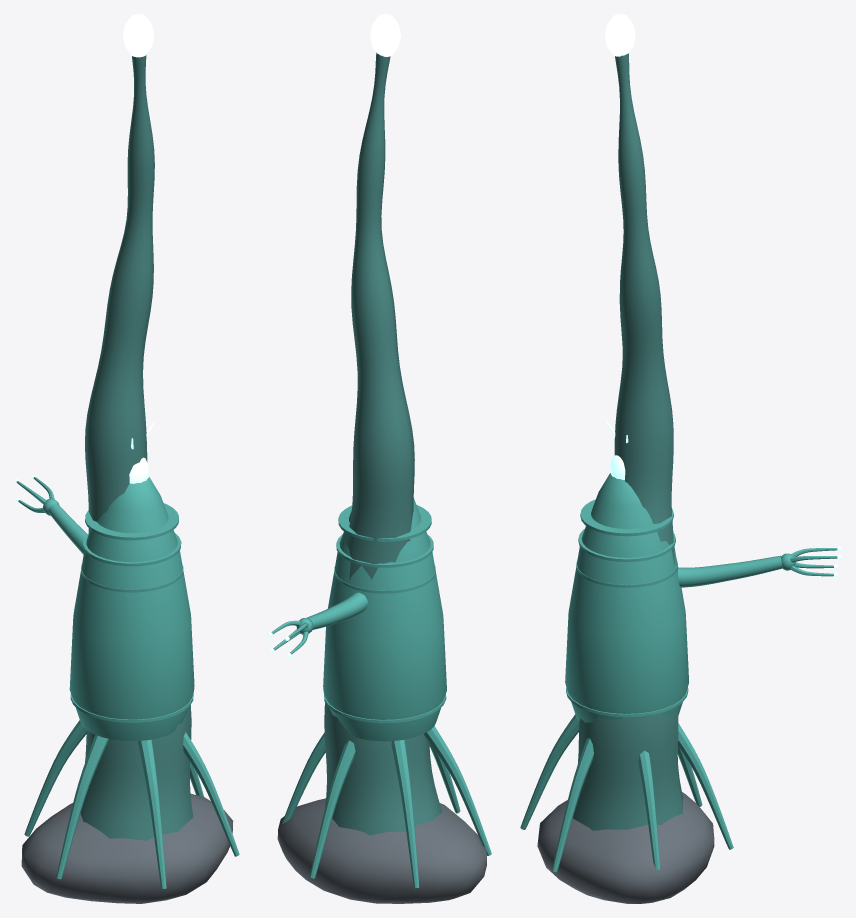
The model's file is home.glb.
The picture shows the model from 3 angles, left to right: view 1: azimuth 30°, elevation 25°; view 2: azimuth 150°, elevation 25°; view 3: azimuth 270°, elevation 25°; orthographic projection.
Visible parts, largest first — view 1: Elder_Body, Spire, Rock, Elder_Arm, SpireTip; view 2: Spire, Elder_Body, Rock, Elder_Arm, SpireTip; view 3: Elder_Body, Spire, Rock, Elder_Arm, SpireTip.
Boxes of the visible parts, x1,y1,x2,y2 form: Elder_Body: (24,422,239,888); Spire: (80,55,193,840); Rock: (21,794,233,903); Elder_Arm: (14,474,87,554); SpireTip: (123,14,154,57); Spire: (324,52,442,835); Elder_Body: (282,498,491,888); Rock: (277,798,486,903); Elder_Arm: (268,592,367,657); SpireTip: (370,14,400,56); Elder_Body: (520,419,733,872); Spire: (573,53,683,830); Rock: (537,792,714,903); Elder_Arm: (678,546,841,587); SpireTip: (604,14,635,56).
Bounding box in the file's own units: 1.32 × 5.46 × 1.86.
